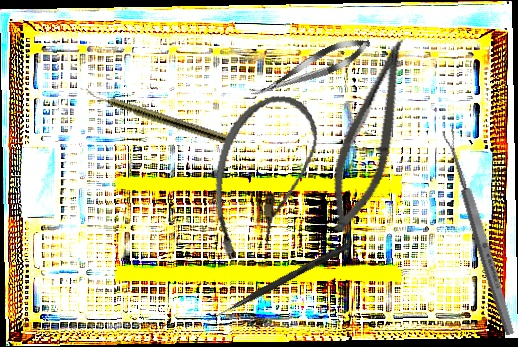Cannula: (201, 87, 326, 271)
Handpiece: (81, 86, 232, 146)
Hook Surgical: (206, 240, 351, 326)
Micro Scissor: (320, 31, 417, 240), (246, 30, 375, 107)
Surgical Spoon: (441, 127, 517, 337)
